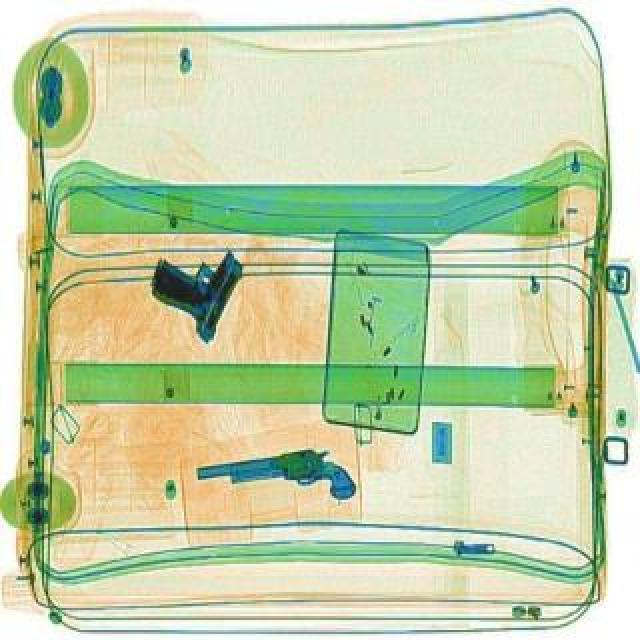gun: (130, 228, 246, 342), (192, 440, 356, 516)
